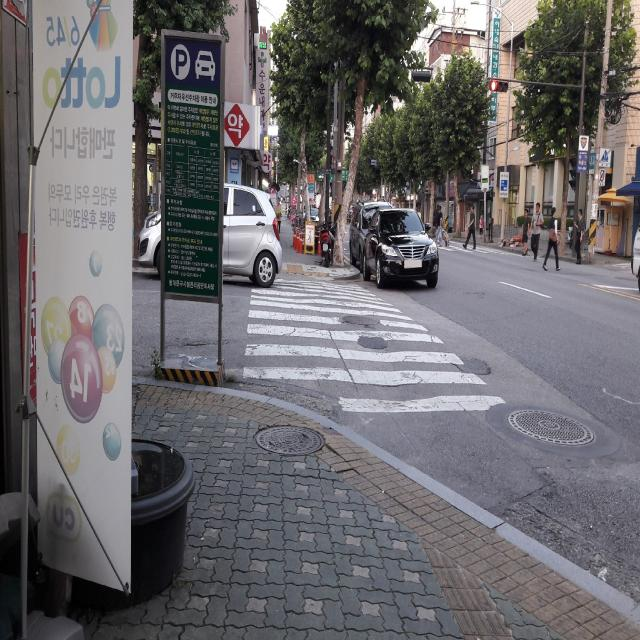횡단보도: (242, 277, 507, 415)
